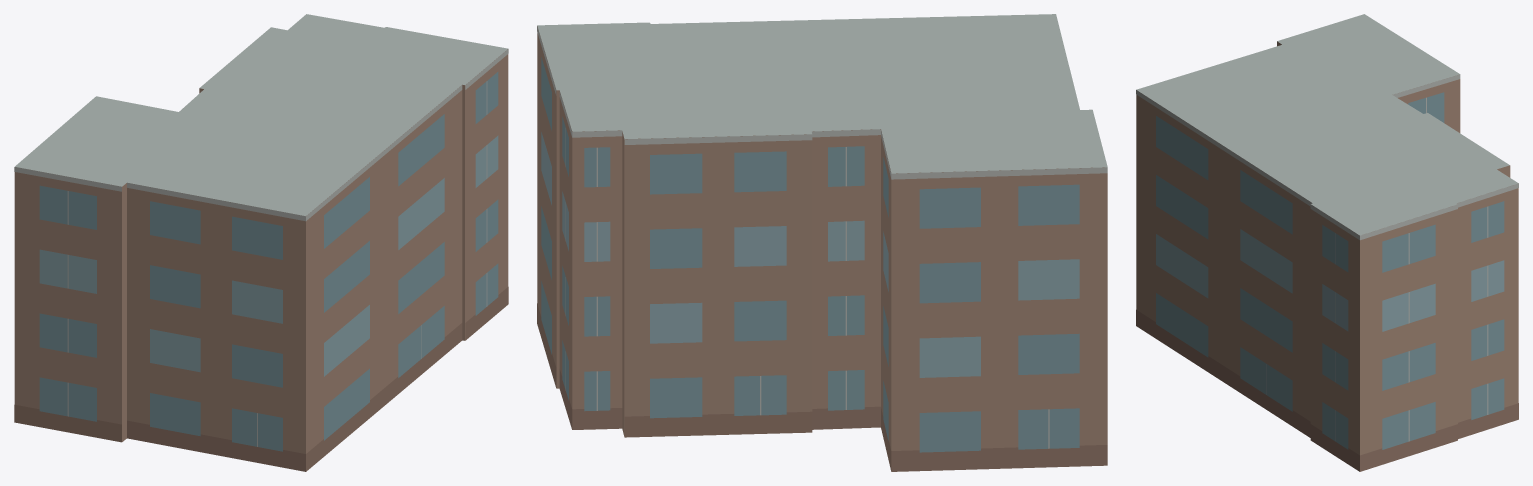
File: survey-upis-32672546.glb
3 views of the same model, side by side, from view 1: azimuth 30°, elevation 25°; view 2: azimuth 150°, elevation 25°; view 3: azimuth 270°, elevation 25° (orthographic). The views are drawn at different scales.
Visible parts, largest first — view 1: survey-upis-32672546.tmp; view 2: survey-upis-32672546.tmp; view 3: survey-upis-32672546.tmp.
Boxes of the visible parts, x1,y1,x2,y2 form: survey-upis-32672546.tmp: (14, 14, 508, 471); survey-upis-32672546.tmp: (537, 14, 1107, 471); survey-upis-32672546.tmp: (1136, 14, 1518, 471).
Bounding box in the file's own units: 24.55 × 12.2 × 17.92.
